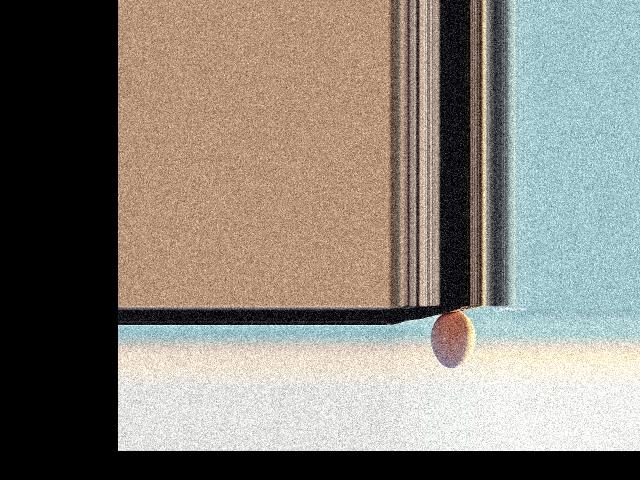egg: (430, 311, 476, 368)
